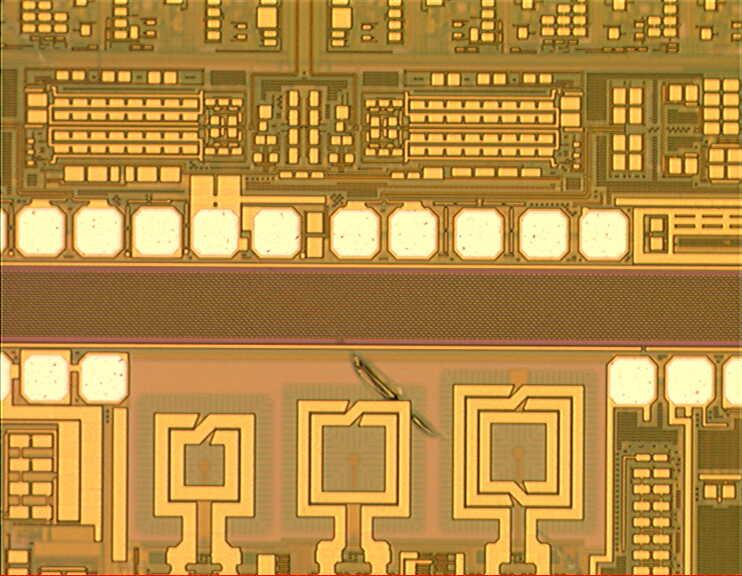SCRATCH: (332, 332, 451, 451)
